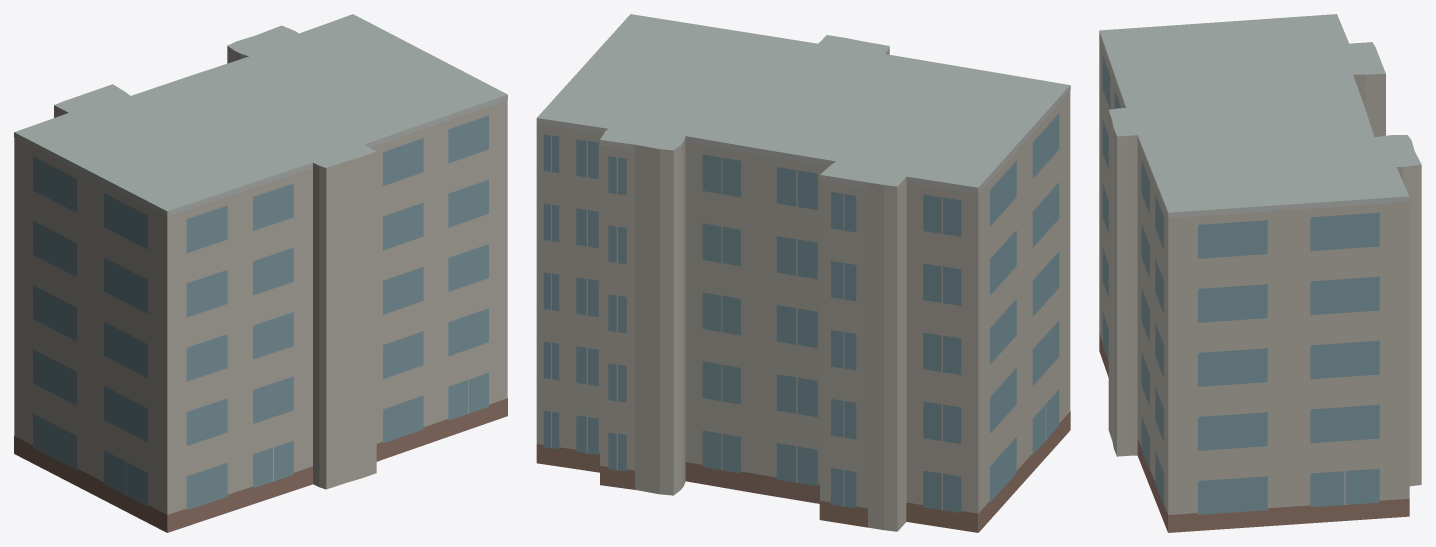
Rendered from survey-upis-32881636.glb.
3 renders of one model, left to right at view 1: azimuth 30°, elevation 25°; view 2: azimuth 150°, elevation 25°; view 3: azimuth 270°, elevation 25°, orthographic. The views are drawn at different scales.
Visible parts, largest first — view 1: survey-upis-32881636.tmp; view 2: survey-upis-32881636.tmp; view 3: survey-upis-32881636.tmp.
Part boxes in pixels (box(x1,y1,x2,y2)): survey-upis-32881636.tmp: box(14, 14, 507, 532); survey-upis-32881636.tmp: box(536, 14, 1070, 532); survey-upis-32881636.tmp: box(1099, 14, 1421, 532).
Bounding box in the file's own units: 19.04 × 14.3 × 13.06.
